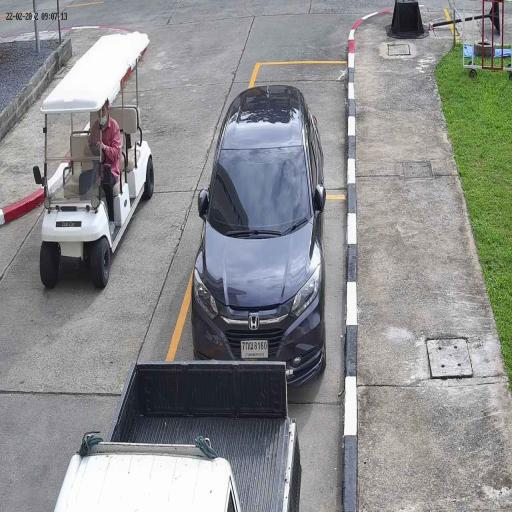car: (190, 82, 325, 384), (62, 358, 307, 512), (38, 33, 156, 288)
